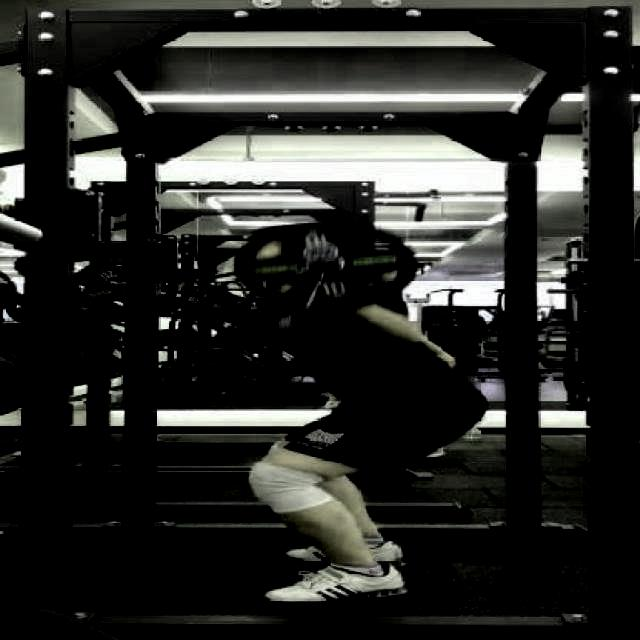barbell: (227, 217, 420, 317)
